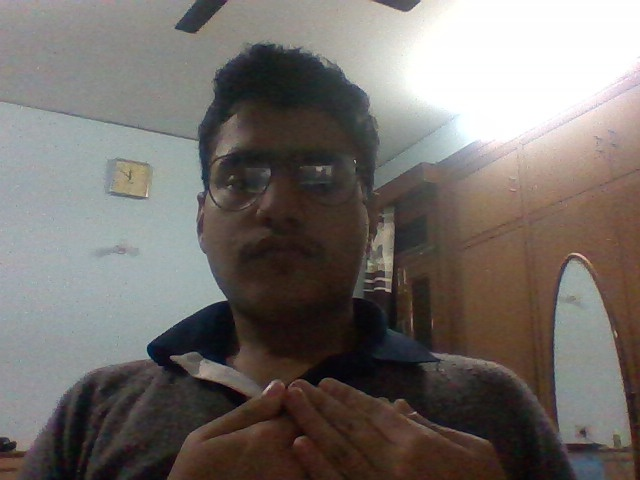Love: (157, 361, 517, 480)
